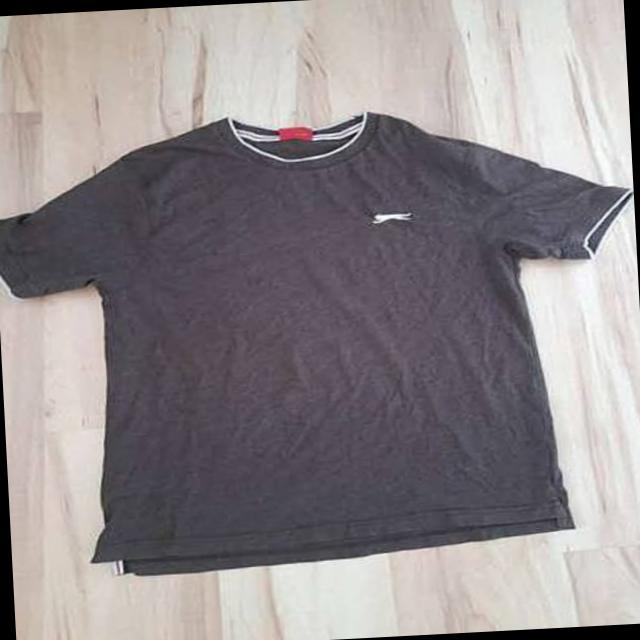T_SHIRT: (0, 86, 640, 591)
